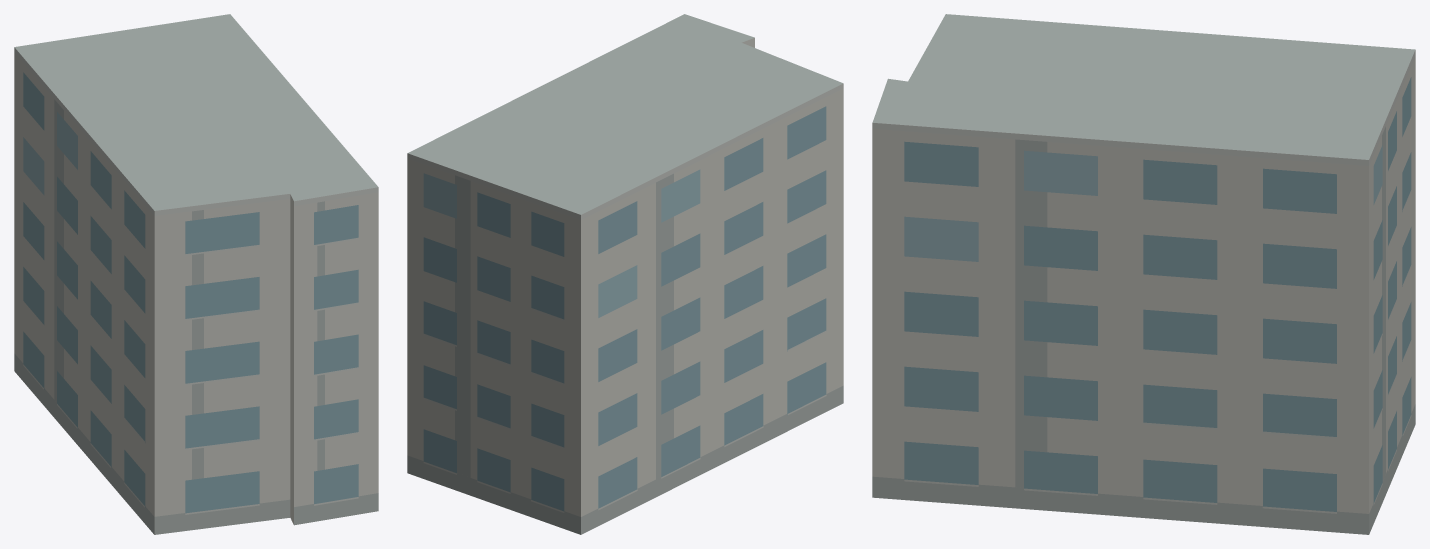
Rendered from survey-upis-32688864.glb.
3 views of the same model, side by side, from view 1: azimuth 30°, elevation 25°; view 2: azimuth 150°, elevation 25°; view 3: azimuth 270°, elevation 25° (orthographic). The views are drawn at different scales.
Parts seen in each view (by area): view 1: survey-upis-32688864.tmp; view 2: survey-upis-32688864.tmp; view 3: survey-upis-32688864.tmp.
Part boxes in pixels (box(x1,y1,x2,y2)): survey-upis-32688864.tmp: box(14, 14, 378, 534); survey-upis-32688864.tmp: box(407, 14, 843, 534); survey-upis-32688864.tmp: box(872, 14, 1415, 534).
Size of the model in its own units: 12.75 by 15.25 by 20.03.
